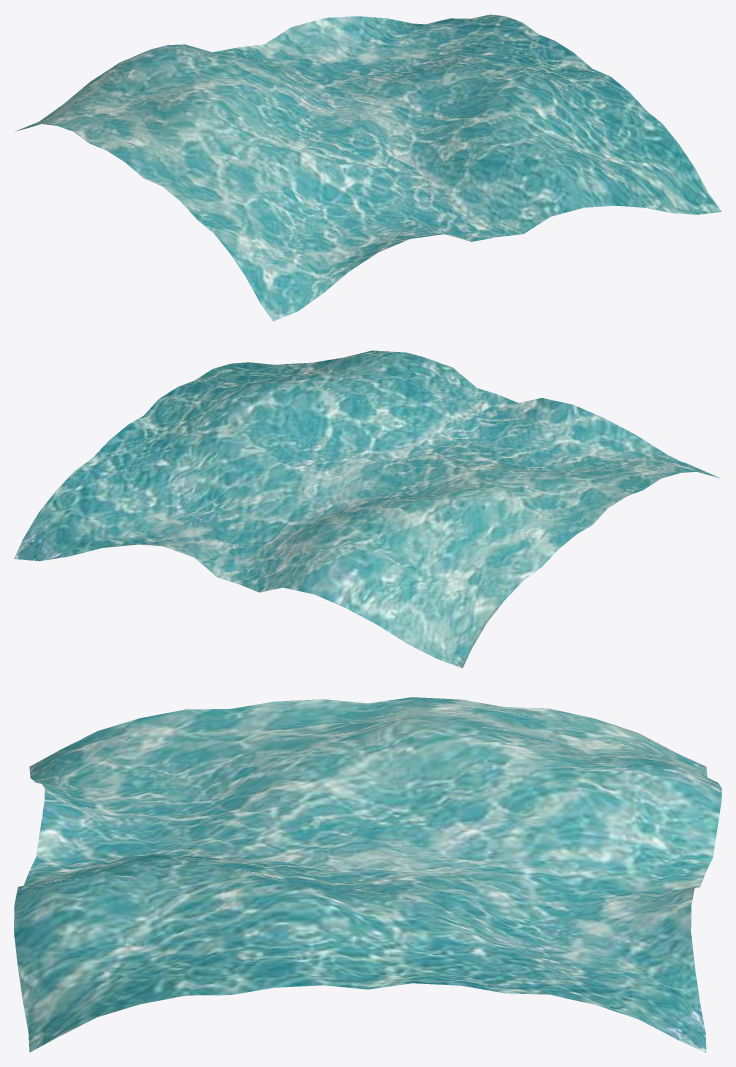
The model's file is water_000135.obj.
The picture shows the model from 3 angles, top to bottom: view 1: azimuth 30°, elevation 25°; view 2: azimuth 150°, elevation 25°; view 3: azimuth 270°, elevation 25°; orthographic projection. The views are drawn at different scales.
Parts seen in each view (by area): view 1: Plan.003_Plan.001; view 2: Plan.003_Plan.001; view 3: Plan.003_Plan.001.
Boxes of the visible parts, <box> form: Plan.003_Plan.001: <box>15,14,721,321</box>; Plan.003_Plan.001: <box>14,350,720,668</box>; Plan.003_Plan.001: <box>14,697,721,1052</box>.
Bounding box in the file's own units: 60916 × 9637 × 63089.
1 material, 1 textured.
